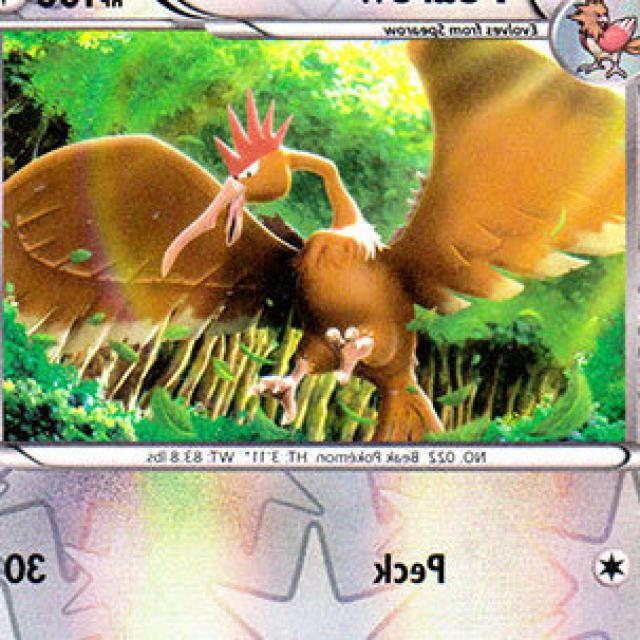Fearow: (128, 104, 503, 414)
